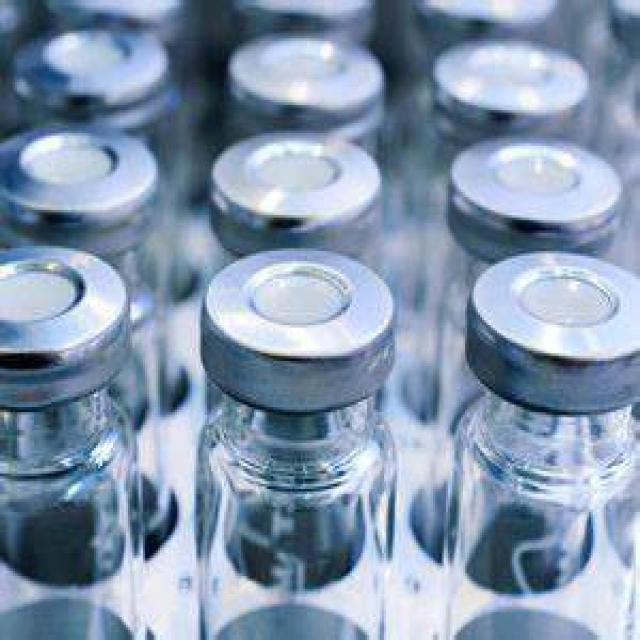vial: (213, 251, 391, 379), (473, 258, 640, 379), (0, 253, 125, 377), (0, 133, 169, 224), (464, 143, 614, 244), (219, 144, 375, 224), (447, 40, 583, 126), (18, 37, 174, 111), (242, 39, 378, 108), (431, 0, 562, 27), (52, 0, 188, 26), (257, 0, 356, 27), (614, 0, 640, 48), (0, 0, 26, 31)
